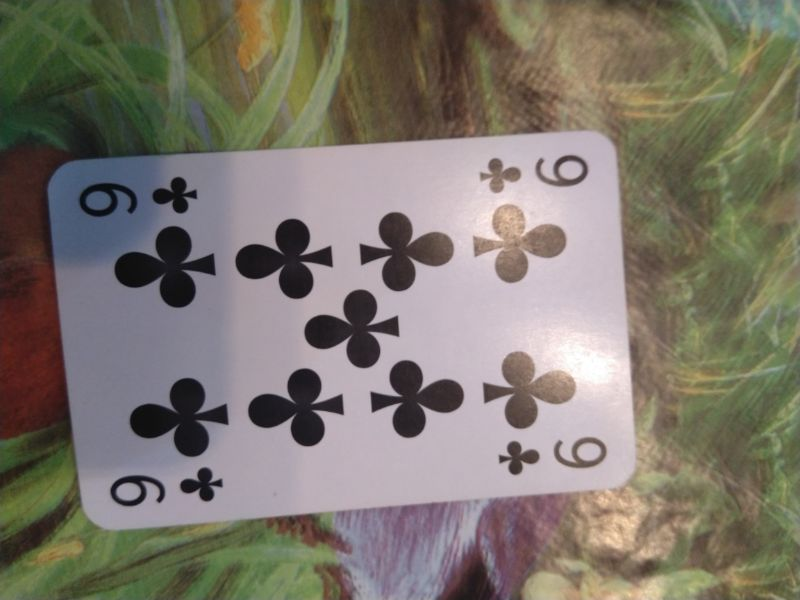9c: (75, 165, 204, 221), (101, 462, 228, 513), (475, 147, 599, 198), (488, 434, 618, 480)
